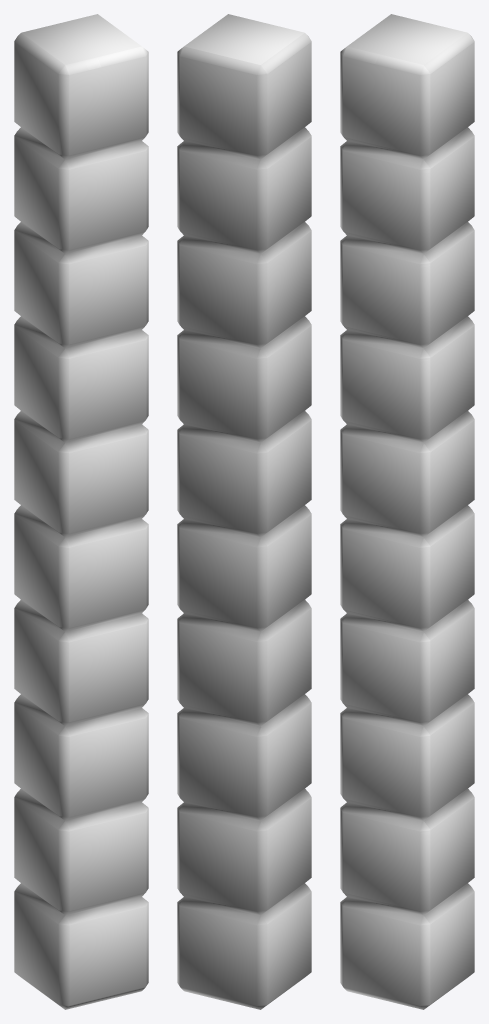
File: Wall.fbx
3 renders of one model, left to right at view 1: azimuth 30°, elevation 25°; view 2: azimuth 150°, elevation 25°; view 3: azimuth 330°, elevation 25°, orthographic.
Parts seen in each view (by area): view 1: Wall; view 2: Wall; view 3: Wall.
Boxes of the visible parts, left/top/right/bottom form: Wall: left=14, top=14, right=148, bottom=1009; Wall: left=177, top=14, right=311, bottom=1009; Wall: left=340, top=14, right=474, bottom=1009.
Bounding box in the file's own units: 1 × 10 × 1.
